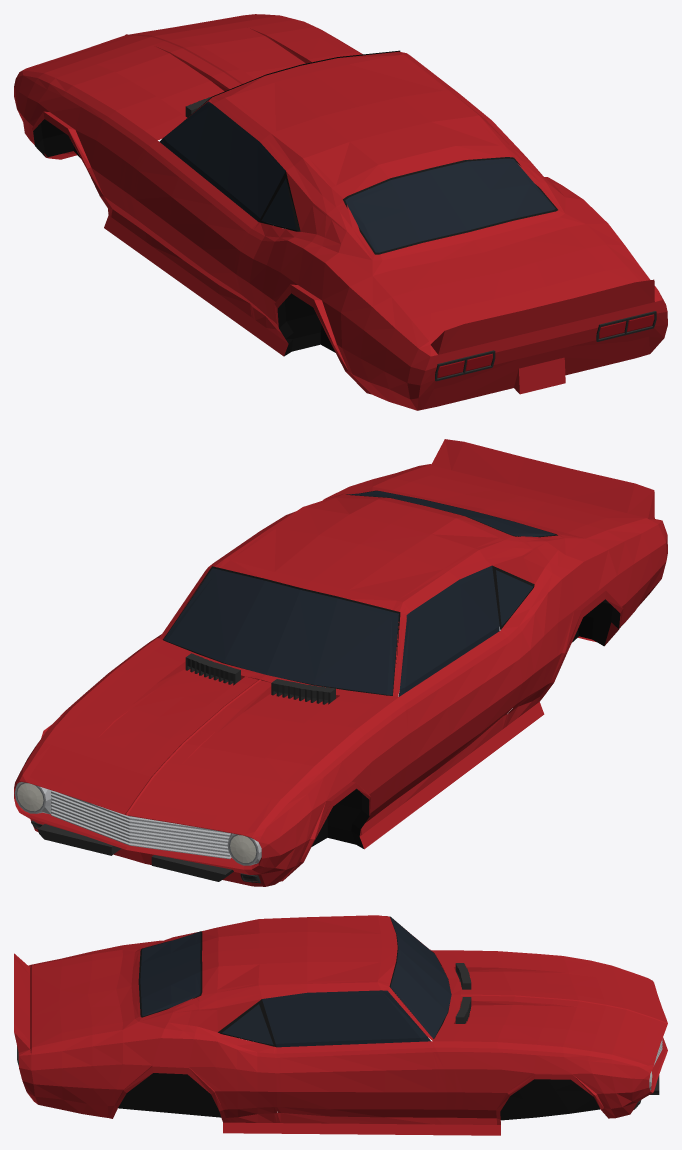
File: camaro.glb
3 views of the same model, one above another, from view 1: azimuth 30°, elevation 25°; view 2: azimuth 150°, elevation 25°; view 3: azimuth 270°, elevation 25° (orthographic). The views are drawn at different scales.
Bounding box in the file's own units: 1.88 × 1.12 × 4.73.
